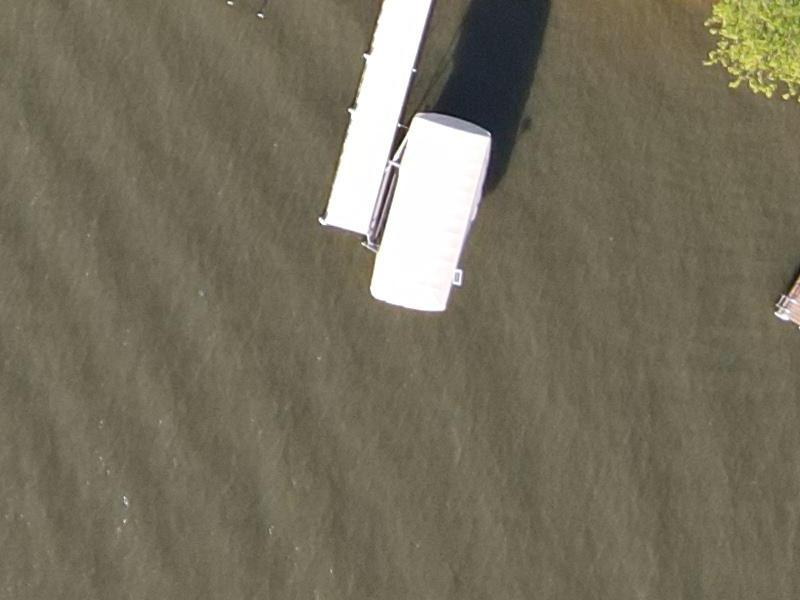boat: (289, 1, 479, 254), (763, 41, 799, 373)
lift: (366, 75, 508, 324)
